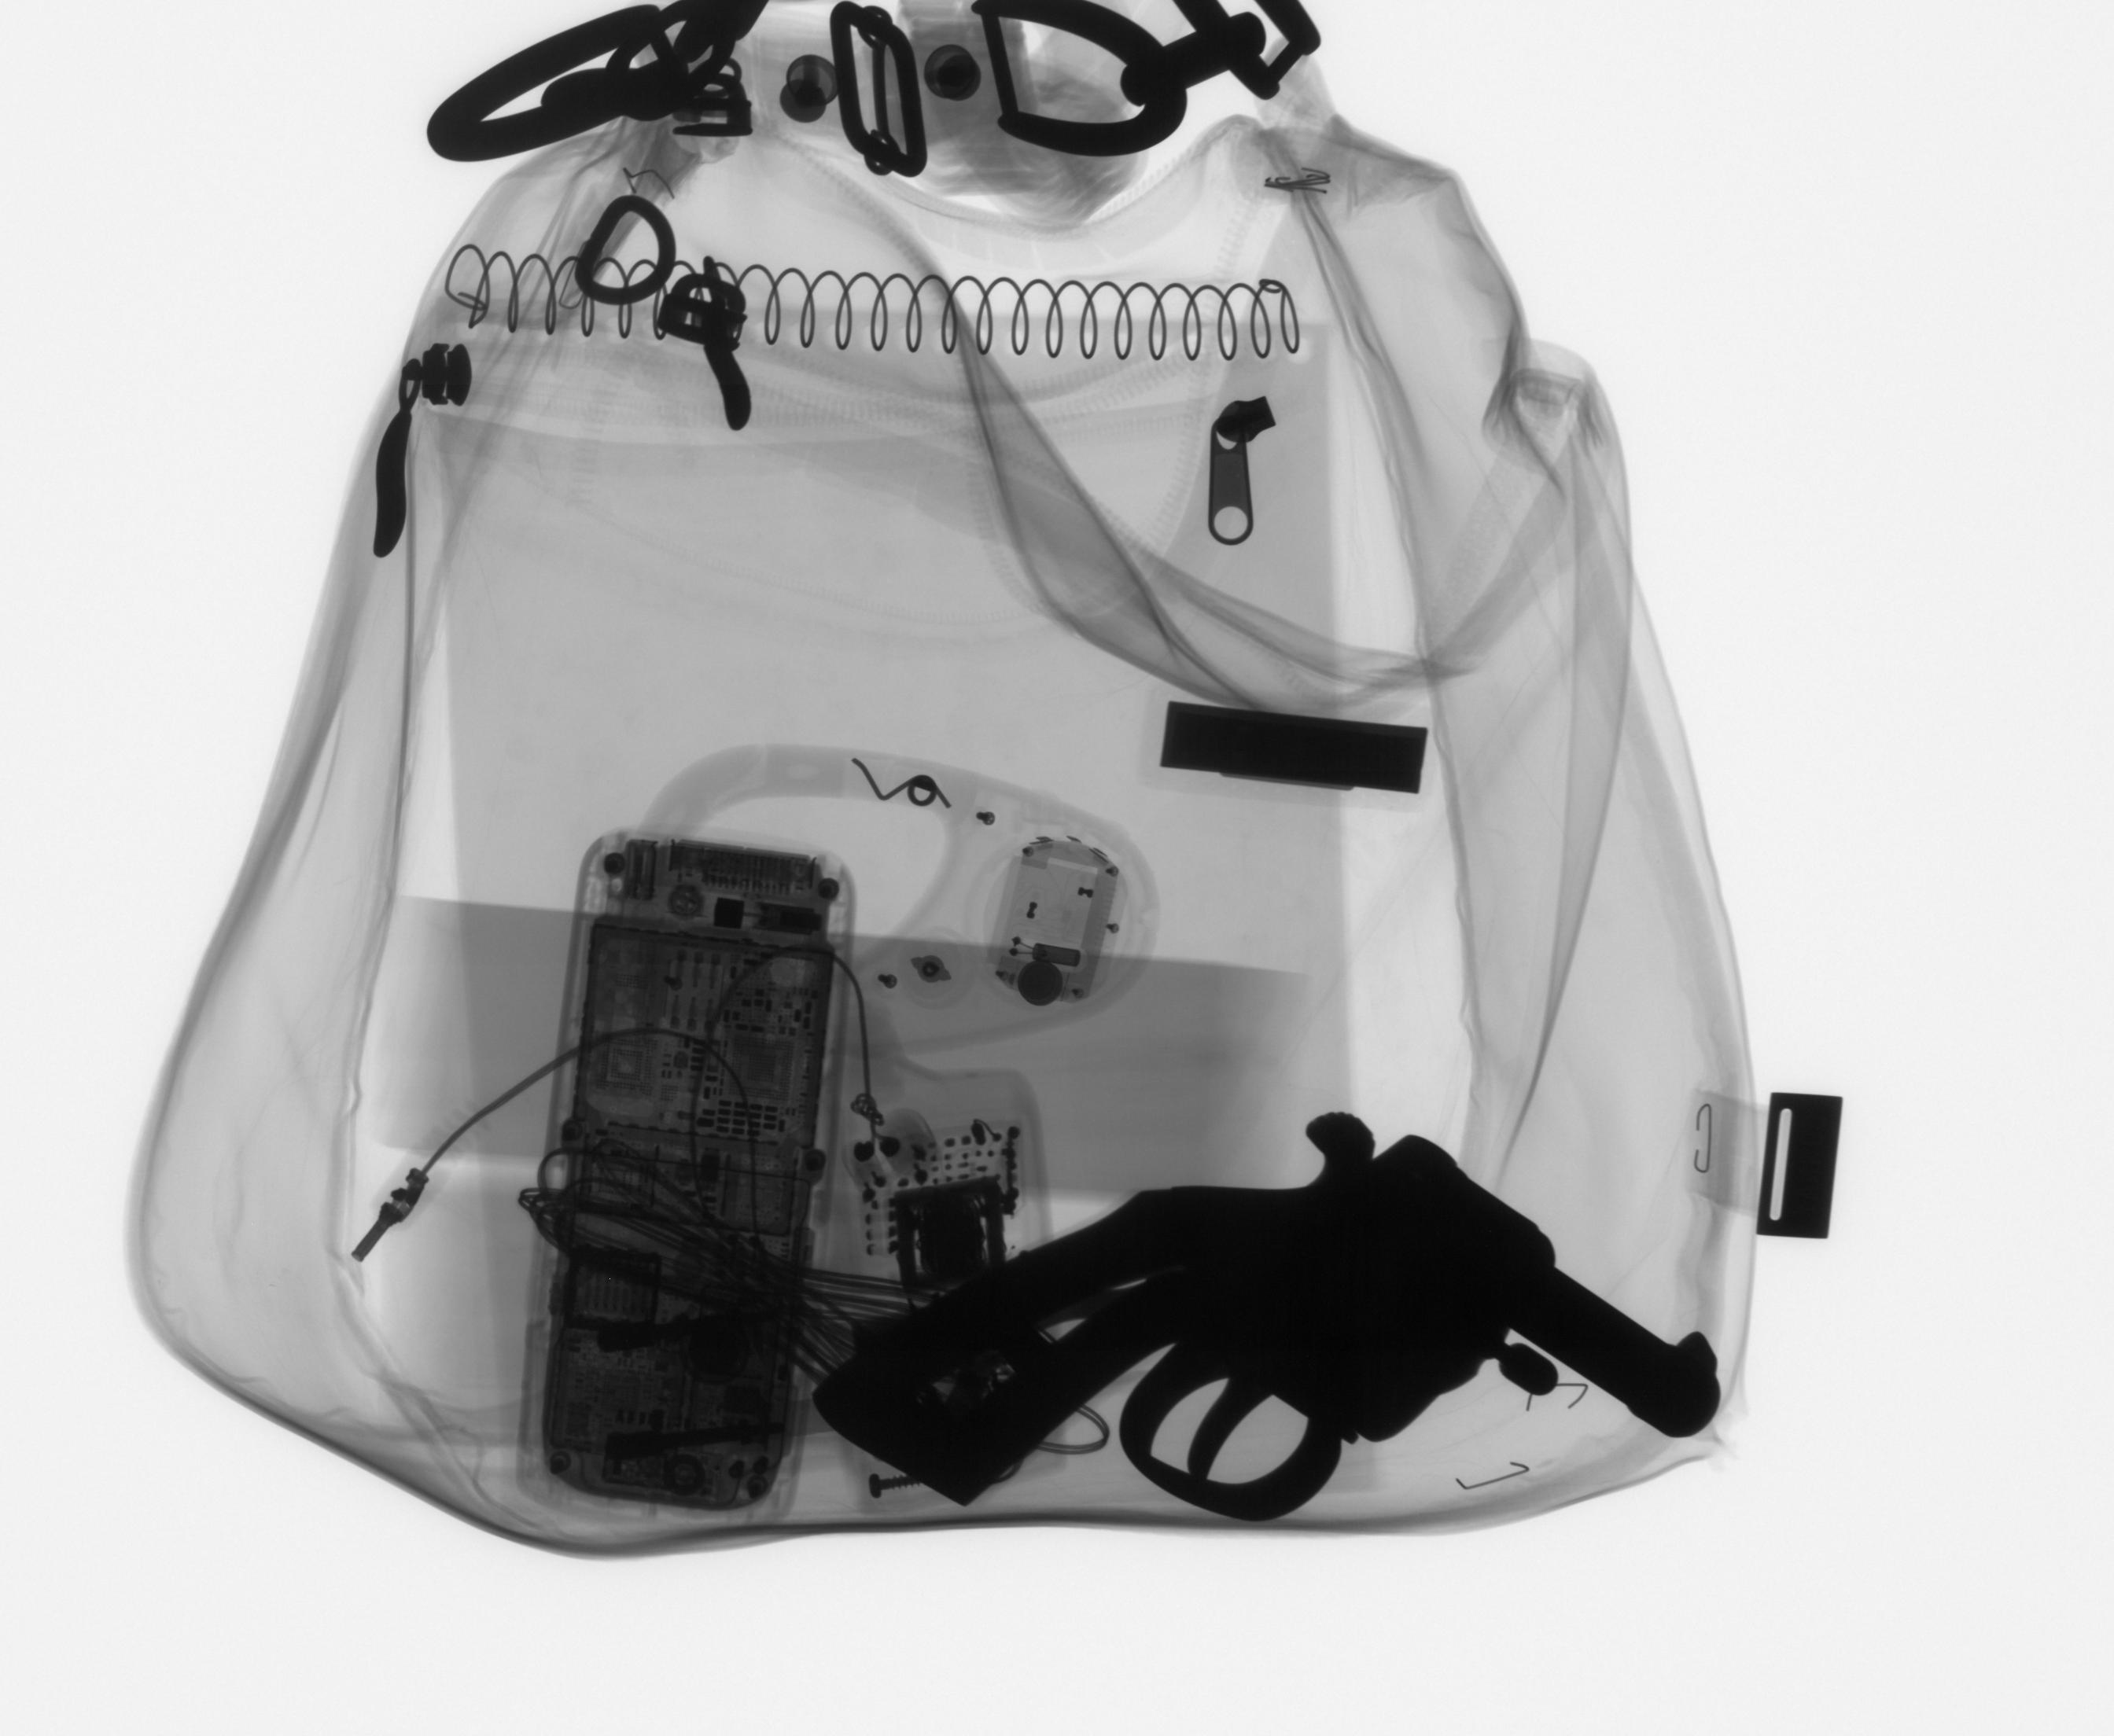Handgun: (806, 1105, 1733, 1527)
